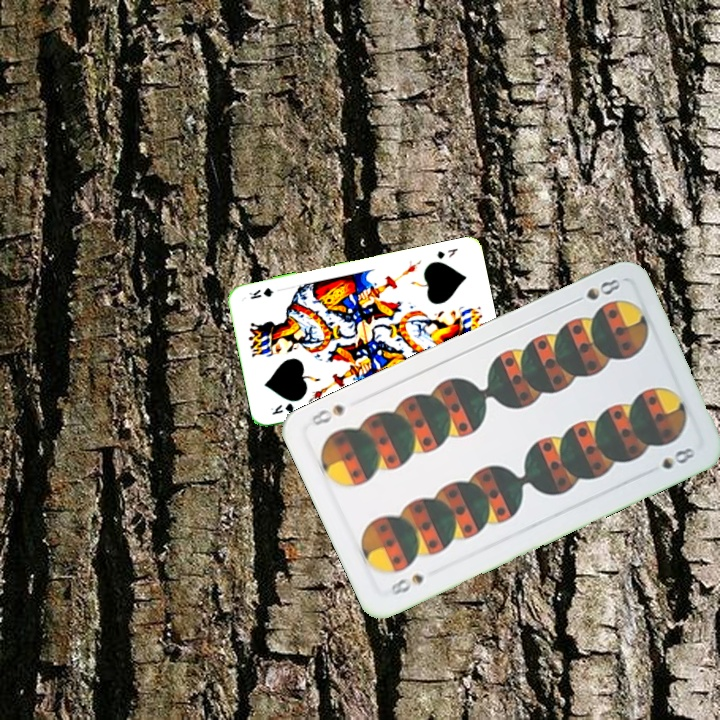GK: (267, 399, 296, 417), (433, 244, 460, 262)
S8: (567, 273, 623, 307), (386, 570, 427, 598)
